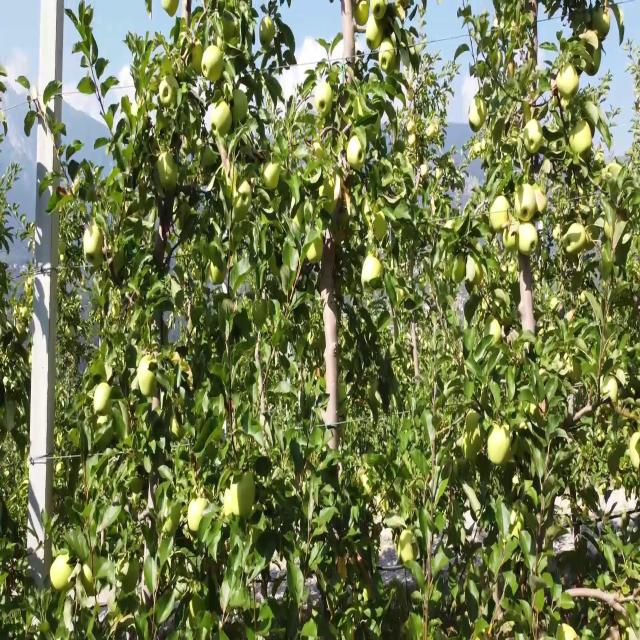apple: (228, 476, 256, 519), (488, 426, 511, 468), (320, 177, 343, 219), (572, 120, 593, 165), (92, 412, 115, 450), (212, 99, 233, 140), (560, 63, 580, 105), (584, 35, 603, 78), (516, 184, 536, 224), (140, 355, 158, 398), (160, 156, 180, 194), (204, 49, 225, 85), (364, 255, 384, 292), (592, 7, 612, 43), (84, 227, 105, 261), (348, 135, 367, 172), (188, 497, 207, 533), (524, 120, 543, 156), (52, 554, 70, 590), (380, 42, 399, 76), (520, 227, 540, 258), (232, 92, 249, 126), (316, 85, 333, 119), (492, 199, 508, 235), (80, 561, 96, 597), (96, 383, 112, 418), (584, 49, 603, 78), (368, 21, 384, 53), (160, 78, 177, 108), (472, 99, 487, 133), (504, 220, 520, 251), (604, 376, 620, 407), (568, 227, 585, 256), (604, 206, 617, 242), (464, 433, 479, 464), (264, 163, 280, 192), (308, 234, 324, 263), (224, 14, 240, 43), (236, 184, 252, 213), (260, 21, 276, 48), (536, 184, 548, 220), (584, 28, 600, 55), (192, 42, 204, 76), (588, 220, 601, 249), (488, 319, 503, 343), (568, 362, 584, 384), (456, 255, 468, 284), (376, 213, 388, 242), (536, 398, 548, 427), (476, 99, 488, 126), (164, 0, 180, 20), (632, 433, 640, 473), (212, 263, 227, 284), (204, 149, 218, 171), (356, 7, 370, 28), (428, 120, 440, 142), (524, 99, 535, 123), (168, 511, 180, 533), (156, 113, 169, 133), (468, 412, 481, 430), (472, 263, 483, 284), (552, 78, 560, 105), (372, 7, 387, 21), (408, 120, 417, 137), (408, 135, 418, 149), (56, 433, 64, 448), (56, 462, 65, 475), (472, 149, 480, 162)
